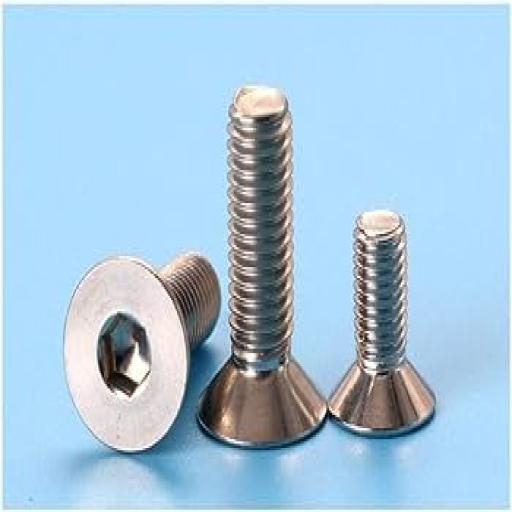Hex-Allen: (62, 257, 190, 454)
